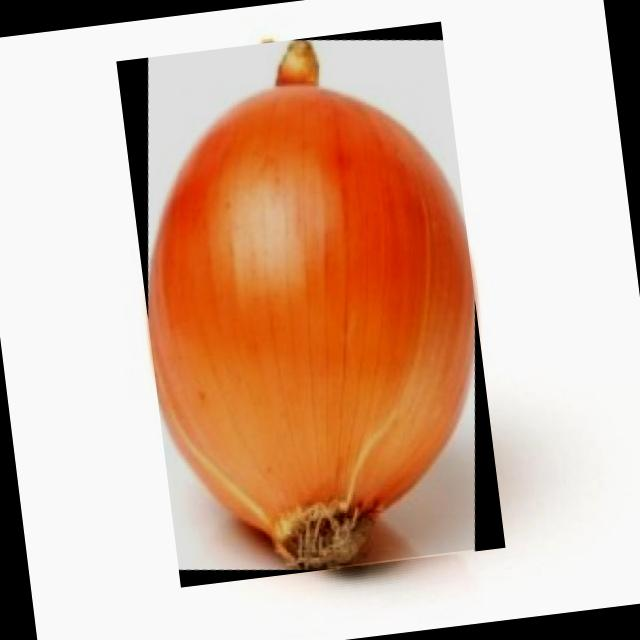healthy: (147, 39, 474, 569)
